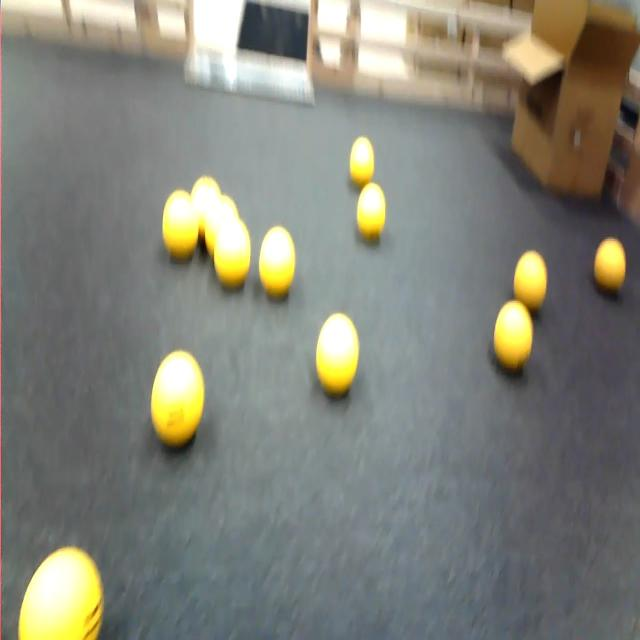fuel: (18, 547, 103, 639), (151, 351, 204, 447), (316, 313, 358, 396), (494, 301, 533, 372), (214, 217, 250, 288), (259, 227, 295, 297), (163, 191, 198, 259), (205, 195, 238, 257), (514, 251, 547, 312), (191, 176, 221, 240), (594, 239, 625, 292), (357, 183, 385, 240), (350, 137, 374, 186)
